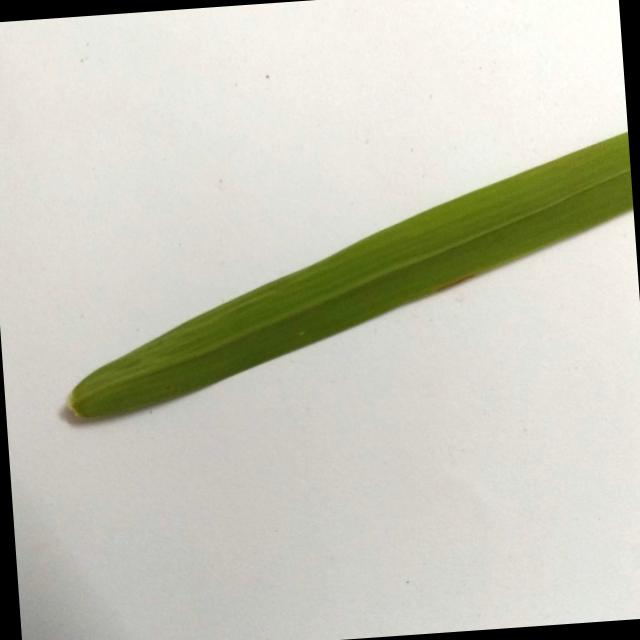Rice_Healthy: (68, 133, 633, 418)
